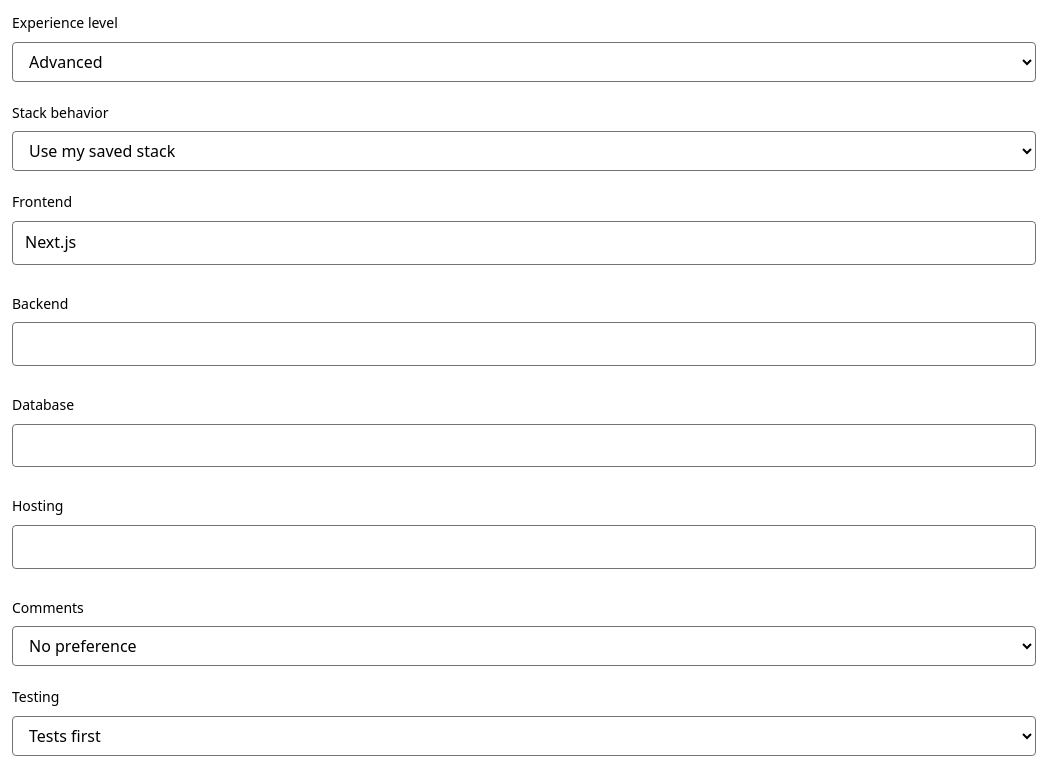
Scenario: PreferencesForm › does not send a saved stack when its behavior changes
Select "Recommend something for me" in the dropdown labelled "Stack behavior" at (524, 151), box [12,131,1036,171]
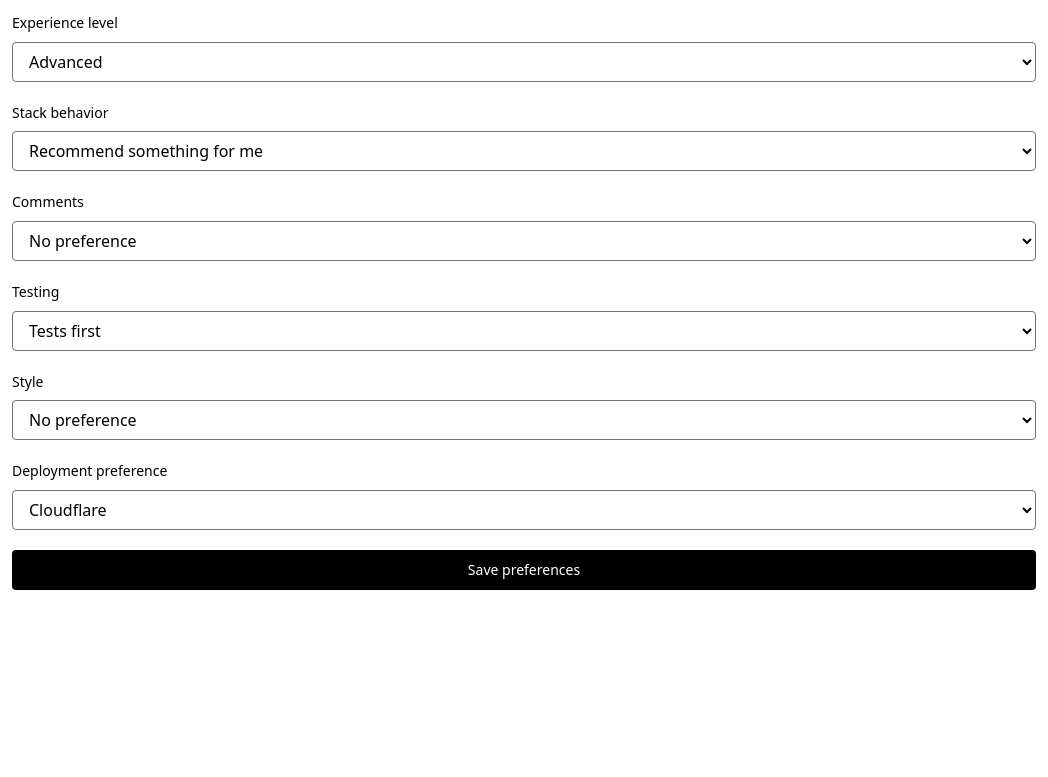
Now the label labelled "Frontend" is gone
